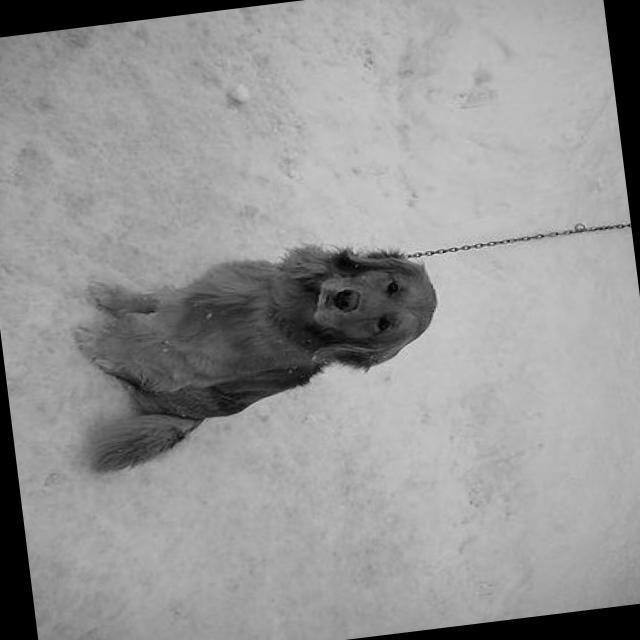sitting: (51, 226, 458, 482)
